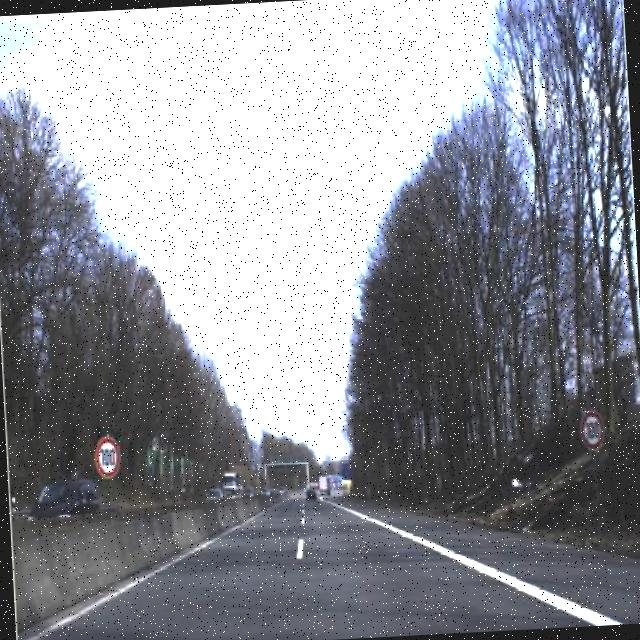Ograniczenie predkosci do 100: (91, 432, 122, 482), (578, 407, 606, 456)
